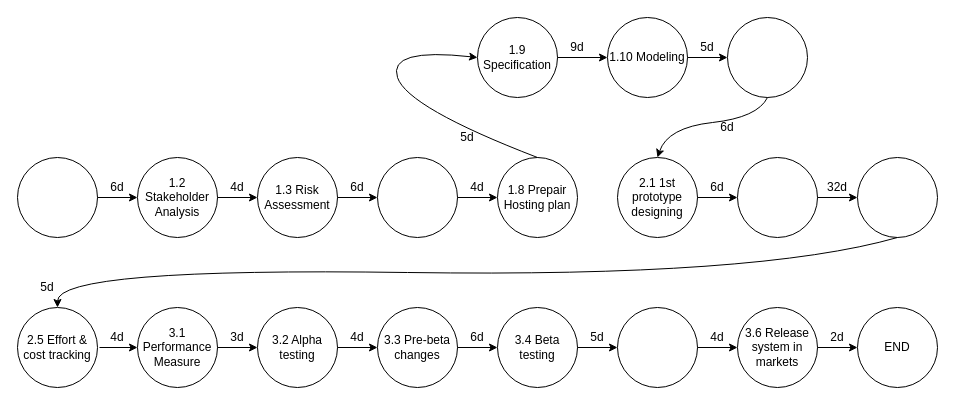
The diagram is 955 pixels wide and 405 high, and some of its shapes have lost their labels. The centre of each missing label's shape, as x and y in pixels:
"1.11 Review and Finalize Diagrams" goes at point 767,57.
"1.6 HR Managment" goes at point 417,197.
"2.2 Implementation of Software" goes at point 777,197.
"2.4 Deliverables quality check" goes at point 897,197.
"3.5 Pre-release changes" goes at point 657,347.
"START 1.1 Requirement Gathering" goes at point 57,197.
